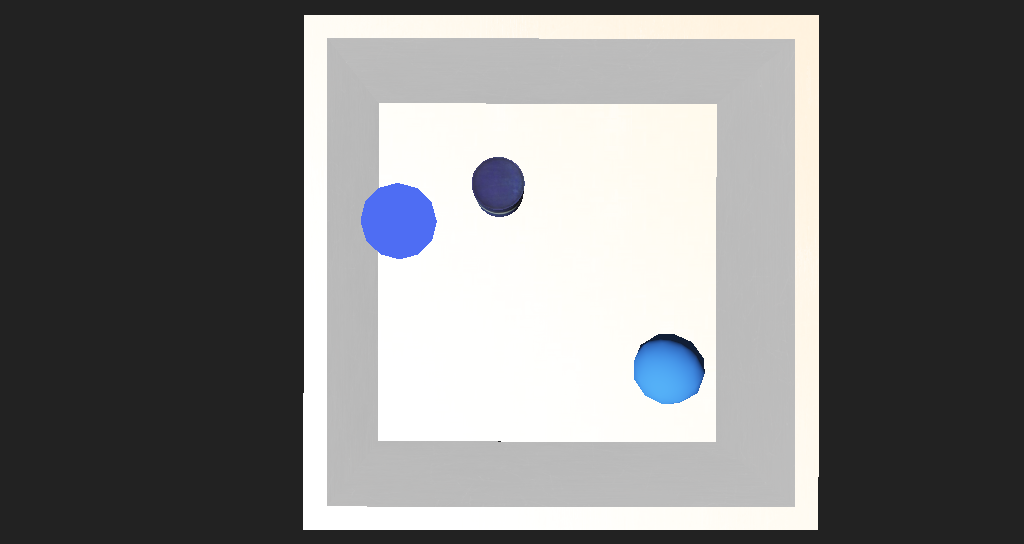cone: (431, 196, 485, 234)
cylinder: (340, 208, 414, 260)
sphere: (583, 308, 643, 351)
